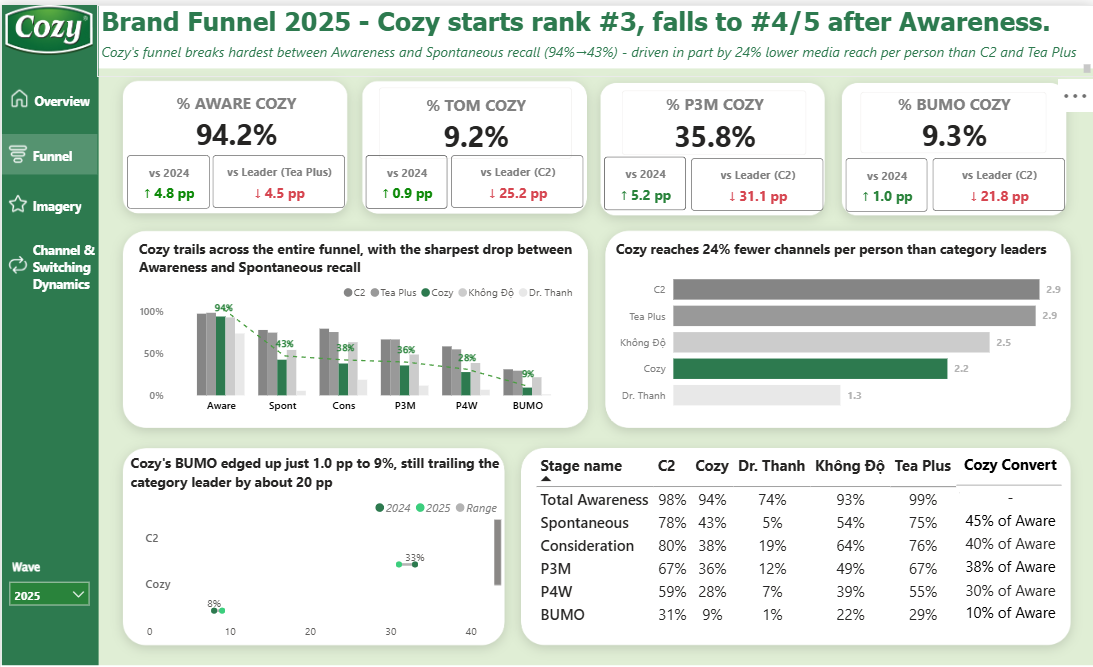

What the dashboard file says about the page in this screenshot:
{"tool":"powerbi","page":{"name":"Funnel","canvas":[1280,780],"ordinal":1},"visuals":[{"type":"textbox","title":"Brand Funnel 2025 - Cozy starts rank #3, falls to #4/5 after Awareness.","box":[111.8,0,1166.7,84.3],"z":0},{"type":"clusteredColumnChart","title":"Cozy trails across the entire funnel, with the sharpest drop between Awareness and Spontaneous recall","fields":{"Category":["Funneln.Funnel"],"Series":["Funneln.Master_Brand"],"Y":["Funneln.Giá trị Funnel2"]},"box":[155.8,273.1,522.2,212.6],"z":0,"group":"g1"},{"type":"cardVisual","fields":{"Data":["Measure.% TOM COZY"]},"box":[429,84,250,108],"z":1000},{"type":"lineChart","fields":{"Category":["Funneln.Funnel"],"Y":["Funneln.Line_Cozy"]},"box":[225.8,334.8,422.7,126.2],"z":1000,"group":"g1"},{"type":"cardVisual","fields":{"Data":["Measure.% Aware Cozy"]},"box":[154,84,242,106],"z":2000},{"type":"cardVisual","fields":{"Data":["Measure.% change aware COzy"]},"box":[146.7,175.6,97,63],"z":3000},{"type":"cardVisual","fields":{"Data":["Measure.% BUMO COZY"]},"box":[993.2,88.7,242.3,97],"z":4000},{"type":"cardVisual","fields":{"Data":["Measure.% P3M COZY"]},"box":[714.2,88.3,240.6,100],"z":5000},{"type":"image","box":[0,0,112.5,60.4],"z":6000},{"type":"cardVisual","fields":{"Data":["Measure.% change TOM COzy"]},"box":[425.4,175,96.2,63.5],"z":7000},{"type":"pivotTable","fields":{"Columns":["Dim Master Brand.Master_Brand"],"Rows":["Stage.Stage name"],"Values":["Stage.Value"]},"box":[621.4,523.9,558.1,238.6],"z":8000},{"type":"slicer","fields":{"Values":["Dim_Respondent.Wave"]},"box":[0,642.4,113.3,73.3],"z":9000},{"type":"pivotTable","fields":{"Rows":["Stage.Stage name"],"Values":["Stage.COZY CONVERT"]},"box":[1112.5,523.2,166.1,239.3],"z":10000},{"type":"group","id":"g1","title":"Group 4","box":[155.8,273.1,522.2,212.6],"z":11000},{"type":"lineChart","title":"Cozy''s BUMO edged up just 1.0 pp to 9%, still trailing the category leader by about 20 pp","fields":{"Category":["XAxis.XAxis"],"Rows":["Dim Master Brand.Master_Brand"],"Y":["Fact Funnel.Dot - bumo24","Fact Funnel.Dot - bumo25","Fact Funnel.Range - BUMO"]},"box":[131,523.8,473.8,221.4],"z":12000},{"type":"cardVisual","fields":{"Data":["Measure.Change vs Leader Aware all time"]},"box":[247.4,175.8,155.6,62.5],"z":13000},{"type":"cardVisual","fields":{"Data":["Measure.Change vs Leader TOM all time"]},"box":[527,176,155.6,62.5],"z":14000},{"type":"cardVisual","fields":{"Data":["Measure.% change P3M COzy"]},"box":[705.9,177.5,96.2,63.5],"z":15000},{"type":"cardVisual","fields":{"Data":["Measure.Change vs Leader P3M all time"]},"box":[806.4,179.1,155.6,62.5],"z":16000},{"type":"cardVisual","fields":{"Data":["Measure.% change BUMO COzy"]},"box":[987.6,178.5,96.2,63.5],"z":17000},{"type":"cardVisual","fields":{"Data":["Measure.Change vs Leader BUMO all time"]},"box":[1089.2,179.6,155.6,62.5],"z":18000},{"type":"clusteredBarChart","title":"Cozy reaches 24% fewer channels per person than category leaders","fields":{"Category":["Dim Master Brand.Master_Brand"],"Y":["Fact Media Channel.Avg Channel Reach"]},"box":[714.6,272.9,531.2,212.5],"z":19000},{"type":"actionButton","title":"Button Home","box":[1.6,84.1,112.7,50.8],"z":20000},{"type":"actionButton","title":"Button Home","box":[0,151.6,112.7,47.6],"z":21000},{"type":"actionButton","title":"Button Home","box":[0,216,112.7,33.3],"z":22000},{"type":"actionButton","title":"Button Home","box":[0,266,116,74],"z":23000}]}

Visuals, with their boxes on the page's 1280x780 design canvas (x1, y1, x2, y2). These are canvas units, not pixel positions in the 1093x667 screenshot, which may show the page scaled, cropped or inside an application window:
"Brand Funnel 2025 - Cozy starts rank #3, falls to #4/5 after Awareness." textbox: locate(112, 0, 1278, 84)
"Cozy trails across the entire funnel, with the sharpest drop between Awareness and Spontaneous recall" clusteredColumnChart: locate(156, 273, 678, 486)
cardVisual - Measure.% TOM COZY: locate(429, 84, 679, 192)
lineChart - Funneln.Funnel x Funneln.Line_Cozy: locate(226, 335, 648, 461)
cardVisual - Measure.% Aware Cozy: locate(154, 84, 396, 190)
cardVisual - Measure.% change aware COzy: locate(147, 176, 244, 239)
cardVisual - Measure.% BUMO COZY: locate(993, 89, 1236, 186)
cardVisual - Measure.% P3M COZY: locate(714, 88, 955, 188)
image: locate(0, 0, 112, 60)
cardVisual - Measure.% change TOM COzy: locate(425, 175, 522, 238)
pivotTable - Dim Master Brand.Master_Brand x Stage.Stage name: locate(621, 524, 1180, 762)
slicer - Dim_Respondent.Wave: locate(0, 642, 113, 716)
pivotTable - Stage.Stage name x Stage.COZY CONVERT: locate(1112, 523, 1279, 762)
"Group 4" group: locate(156, 273, 678, 486)
"Cozy''s BUMO edged up just 1.0 pp to 9%, still trailing the category leader by about 20 pp" lineChart: locate(131, 524, 605, 745)
cardVisual - Measure.Change vs Leader Aware all time: locate(247, 176, 403, 238)
cardVisual - Measure.Change vs Leader TOM all time: locate(527, 176, 683, 238)
cardVisual - Measure.% change P3M COzy: locate(706, 178, 802, 241)
cardVisual - Measure.Change vs Leader P3M all time: locate(806, 179, 962, 242)
cardVisual - Measure.% change BUMO COzy: locate(988, 178, 1084, 242)
cardVisual - Measure.Change vs Leader BUMO all time: locate(1089, 180, 1245, 242)
"Cozy reaches 24% fewer channels per person than category leaders" clusteredBarChart: locate(715, 273, 1246, 485)
"Button Home" actionButton: locate(2, 84, 114, 135)
"Button Home" actionButton: locate(0, 152, 113, 199)
"Button Home" actionButton: locate(0, 216, 113, 249)
"Button Home" actionButton: locate(0, 266, 116, 340)
